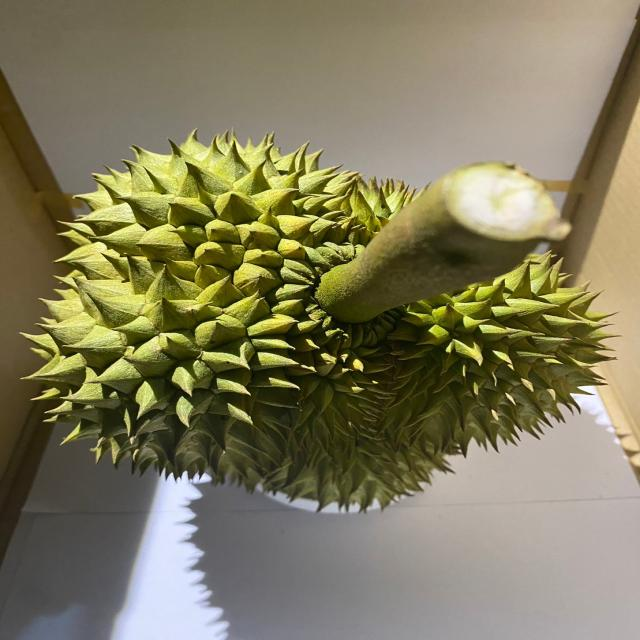immature: (17, 128, 620, 516)
